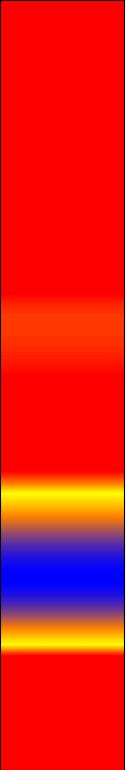Thermal Runaway: (7, 10, 112, 522), (11, 629, 116, 763)
critical: (5, 613, 118, 626), (9, 530, 113, 541)
safe: (6, 548, 118, 608)
